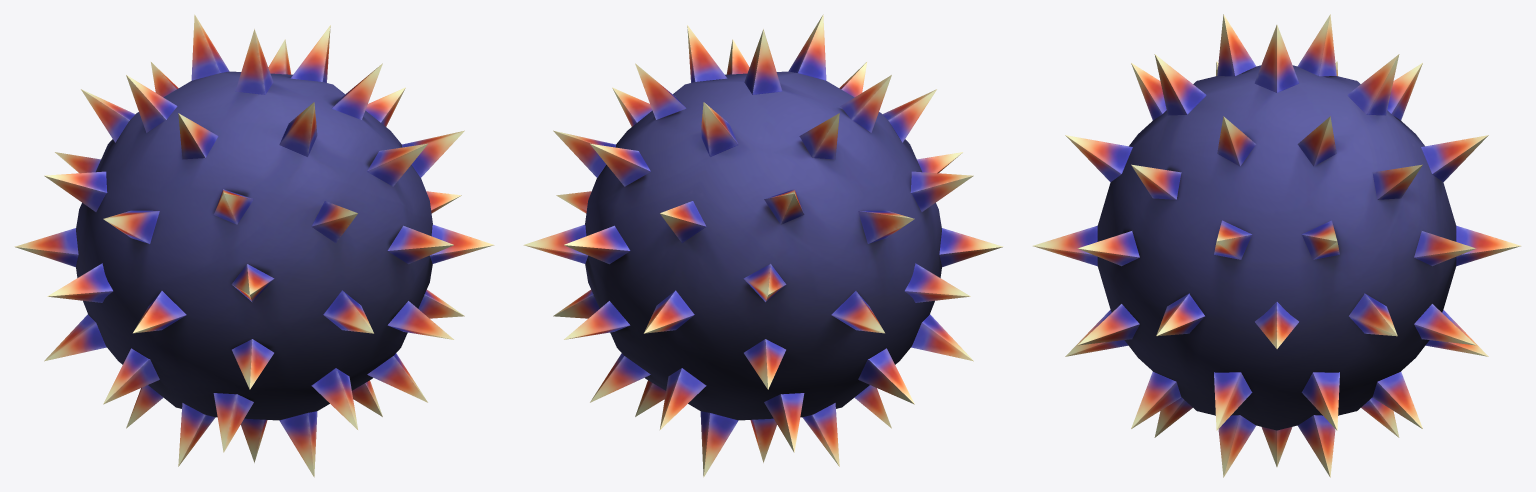
The model's file is DarkBlade_SpikeBall_Projectile.FBX.
3 views of the same model, side by side, from view 1: azimuth 30°, elevation 25°; view 2: azimuth 150°, elevation 25°; view 3: azimuth 270°, elevation 25° (orthographic). The views are drawn at different scales.
Parts seen in each view (by area): view 1: DarkBlade_SpikeBall_Projectile; view 2: DarkBlade_SpikeBall_Projectile; view 3: DarkBlade_SpikeBall_Projectile.
Boxes of the visible parts, bbox=[...] form: DarkBlade_SpikeBall_Projectile: bbox=[14, 14, 494, 477]; DarkBlade_SpikeBall_Projectile: bbox=[523, 14, 1003, 477]; DarkBlade_SpikeBall_Projectile: bbox=[1033, 14, 1520, 477].
Size of the model in its own units: 14.86 by 14.86 by 14.86.
